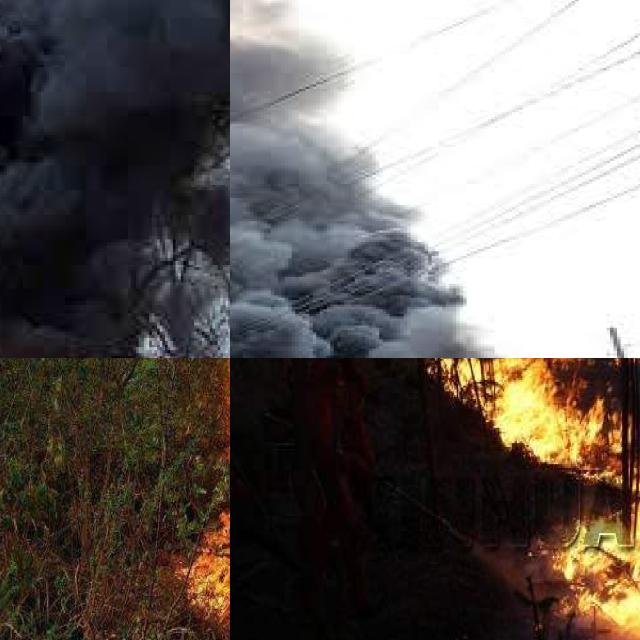fire: (436, 358, 640, 640), (181, 358, 230, 640)
smoke: (230, 37, 536, 358), (0, 0, 230, 358)
